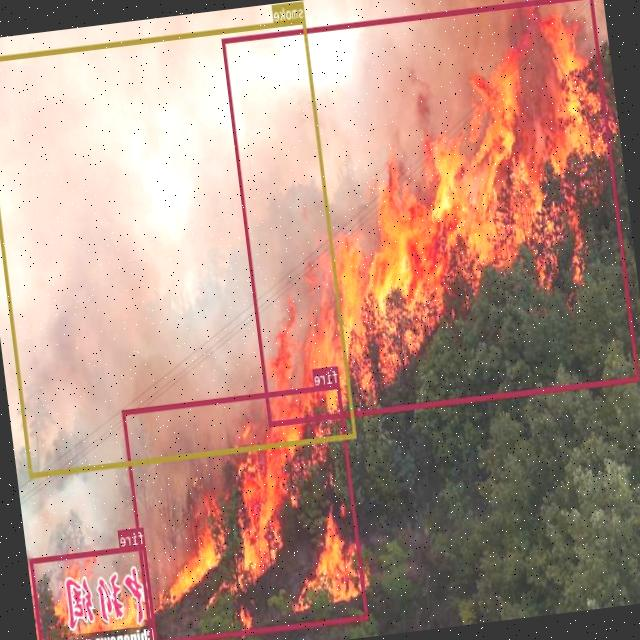fire: (222, 0, 640, 425), (122, 382, 369, 640), (30, 543, 158, 640)
smoke: (0, 18, 357, 476)
